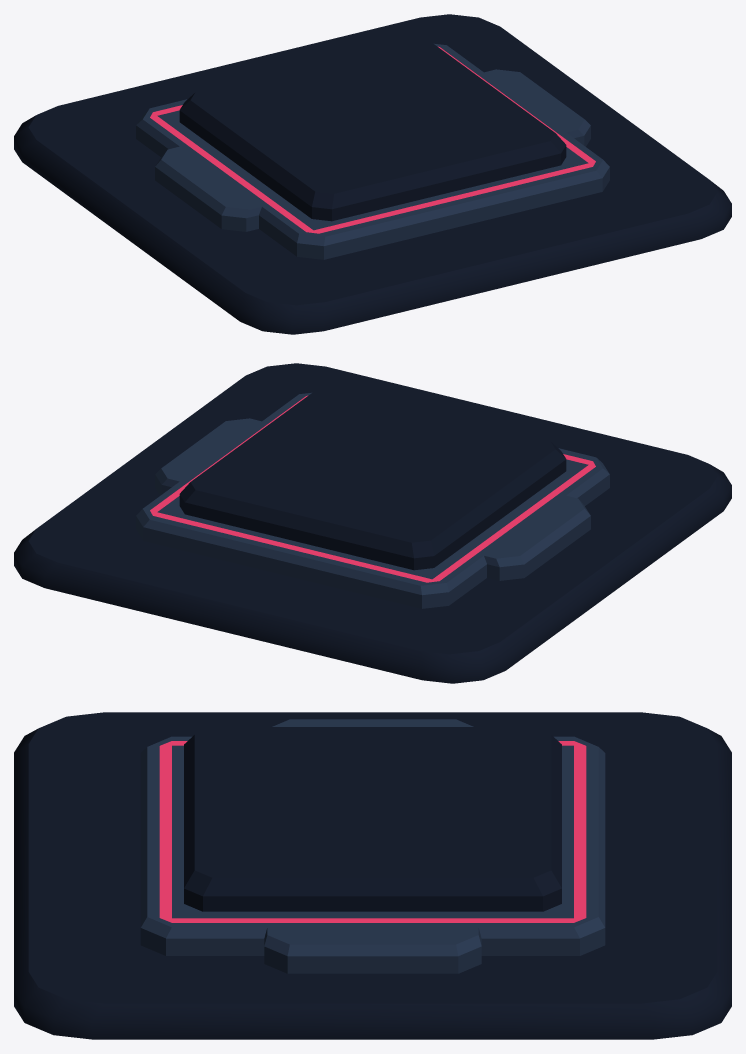
The model's file is BossNode.fbx.
3 views of the same model, one above another, from view 1: azimuth 30°, elevation 25°; view 2: azimuth 150°, elevation 25°; view 3: azimuth 270°, elevation 25° (orthographic). The views are drawn at different scales.
Visible parts, largest first — view 1: BossNode; view 2: BossNode; view 3: BossNode.
Part boxes in pixels (x1,y1,x2,y2): BossNode: (14, 14, 731, 334); BossNode: (14, 363, 731, 683); BossNode: (14, 712, 731, 1039).
Bounding box in the file's own units: 201 × 26.35 × 201.
